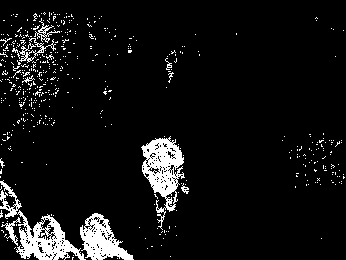person: (137, 133, 195, 233)
